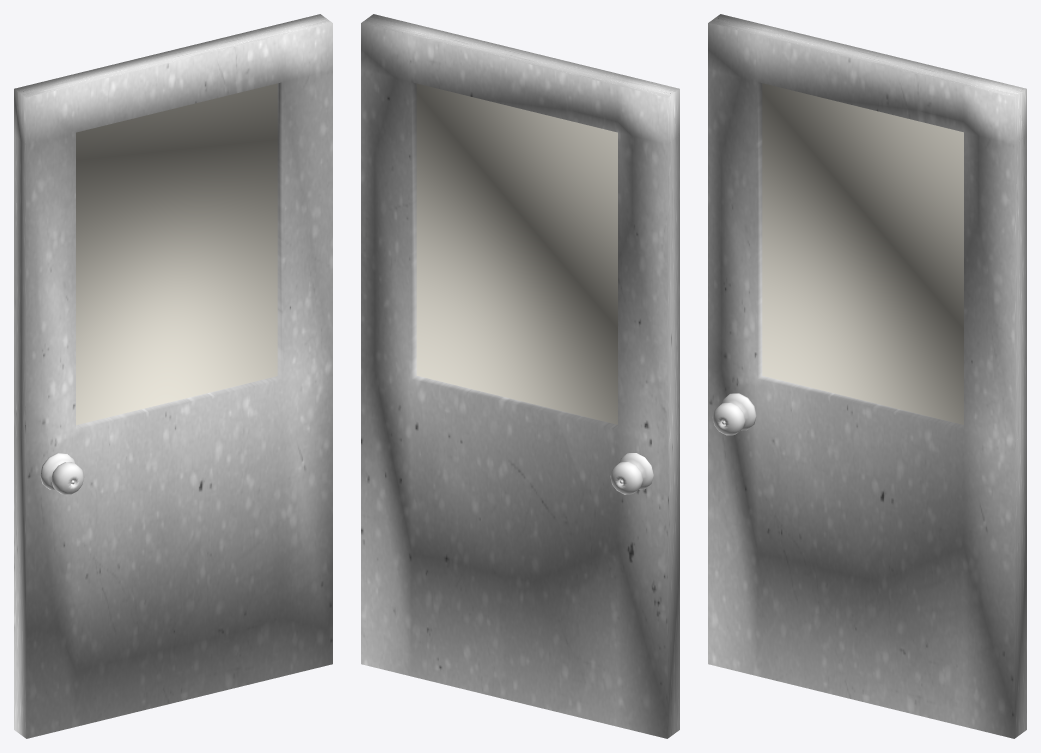
Rendered from door.fbx.
The picture shows the model from 3 angles, left to right: view 1: azimuth 30°, elevation 25°; view 2: azimuth 150°, elevation 25°; view 3: azimuth 330°, elevation 25°; orthographic projection.
Visible parts, largest first — view 1: door; view 2: door; view 3: door.
Part boxes in pixels (bbox=[...]): door: bbox=[14, 14, 332, 738]; door: bbox=[361, 14, 679, 738]; door: bbox=[708, 14, 1026, 738].
Bounding box in the file's own units: 100 × 200 × 25.09.
Materials: 3 (1 with a texture image).
